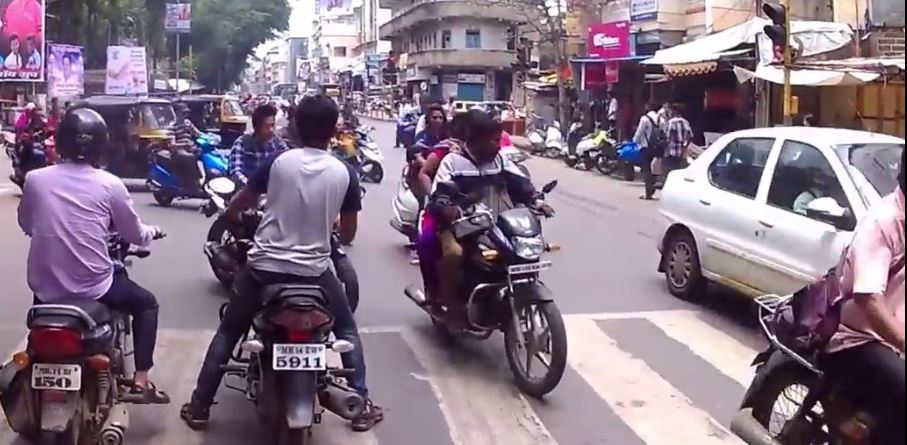autorickshaw: (104, 87, 179, 184), (174, 92, 249, 140)
car: (649, 120, 845, 297)
